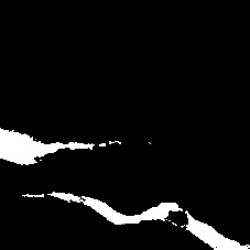crack: (0, 127, 123, 167), (50, 193, 180, 227), (182, 212, 248, 248), (23, 193, 44, 197)
